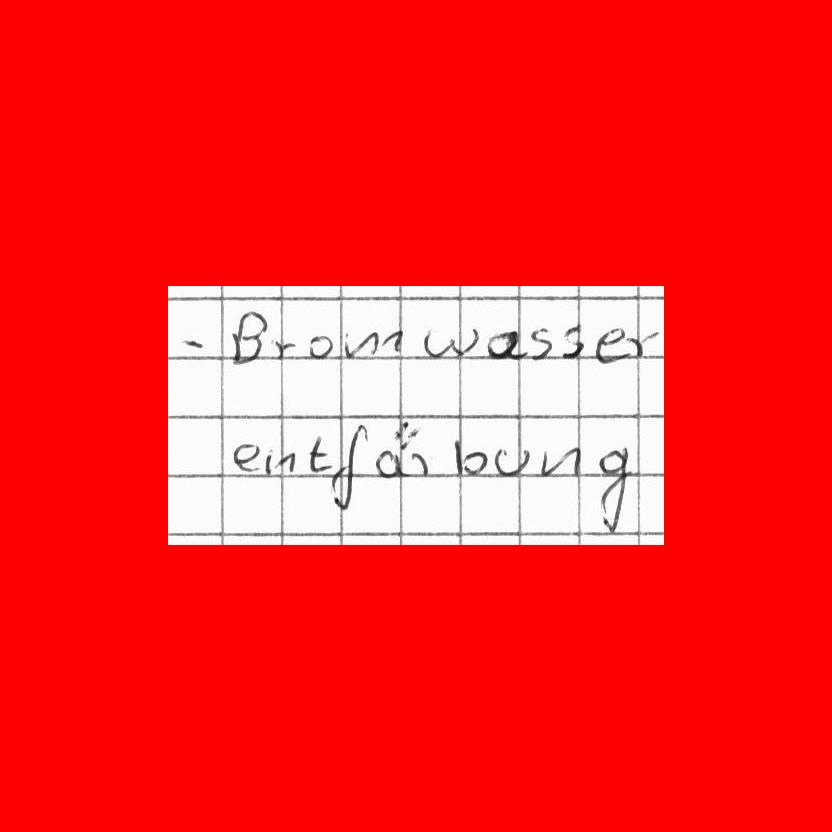Char: (329, 422, 368, 509), (596, 443, 634, 529), (375, 420, 416, 479), (228, 309, 266, 367), (423, 323, 479, 358), (347, 327, 403, 358), (538, 444, 584, 479), (593, 324, 628, 363), (493, 445, 533, 477), (454, 441, 487, 477), (486, 328, 522, 360), (405, 434, 428, 478), (230, 440, 260, 471), (628, 329, 659, 358), (560, 323, 584, 360), (264, 449, 297, 475), (527, 326, 552, 360), (308, 434, 328, 474), (307, 332, 334, 359), (270, 334, 296, 361), (180, 334, 205, 354)
